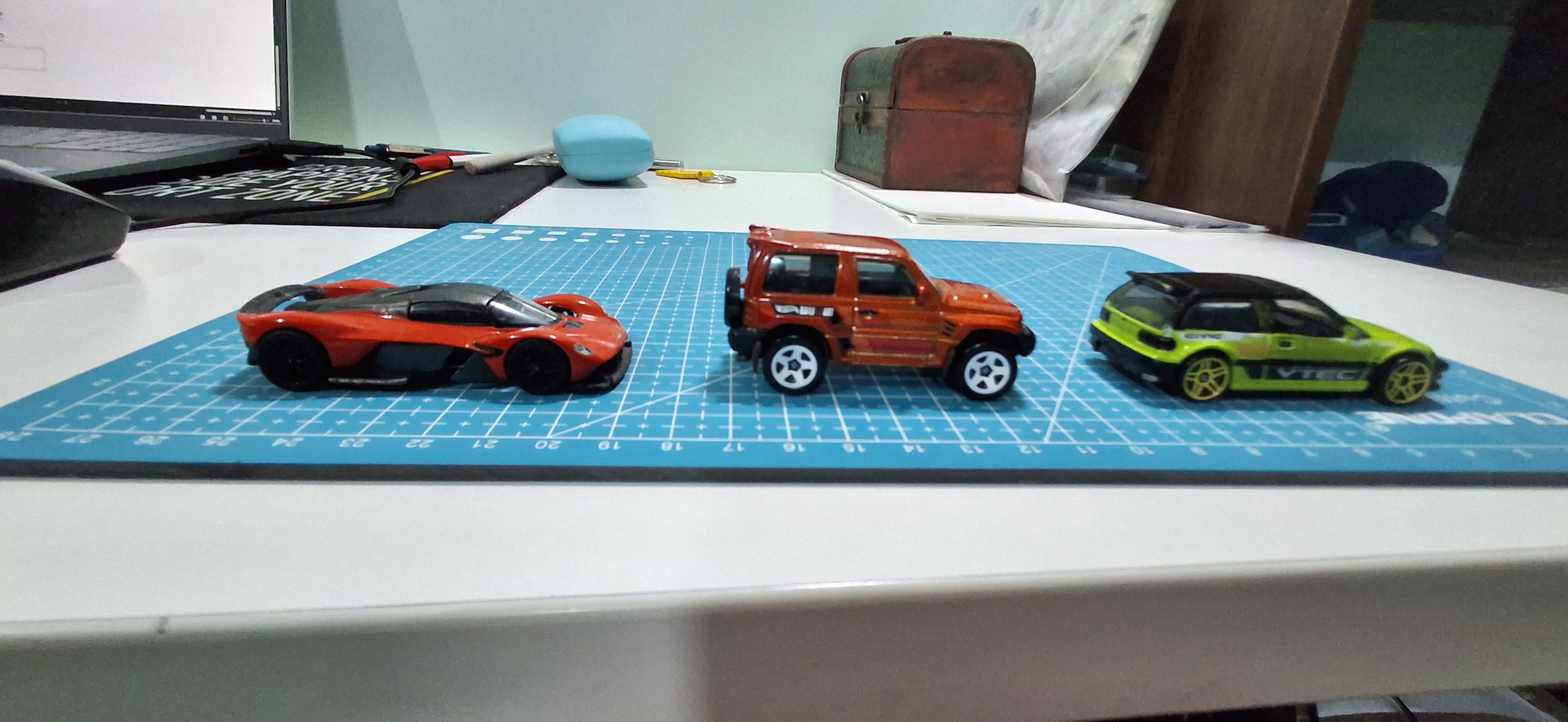Aston_Martin_Valkyrie: (199, 229, 657, 440)
Honda_Civic: (1090, 242, 1465, 438)
Mitsubishi_Pajero_Evolution: (702, 213, 1056, 450)
